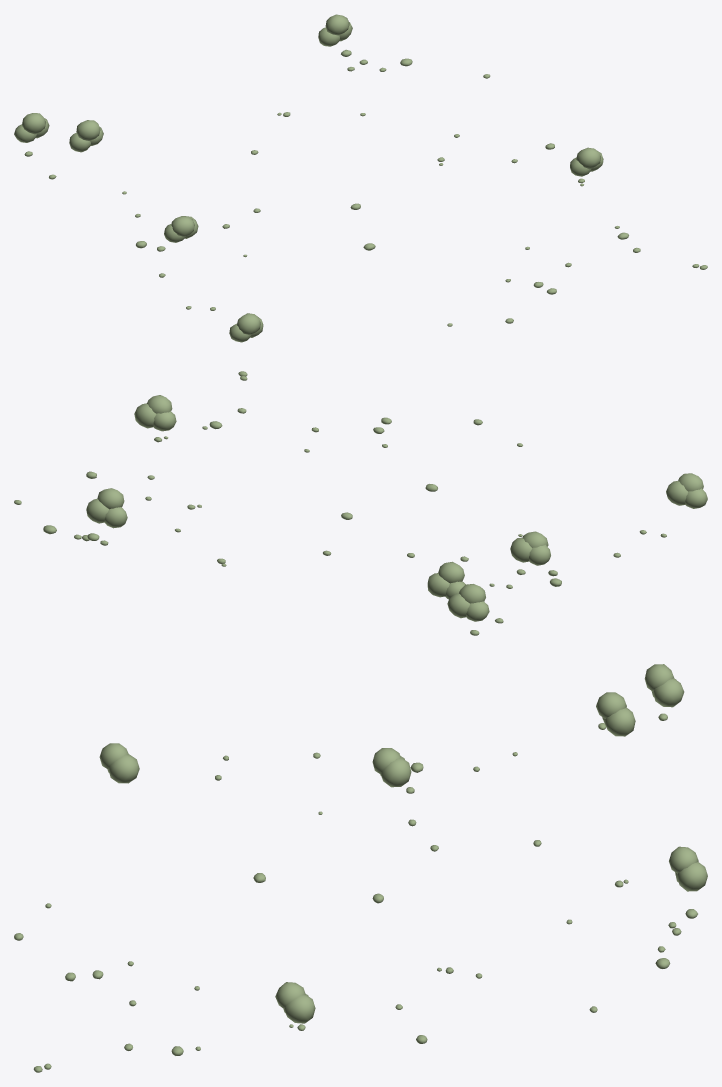
File: SM_LeavesLight.fbx
3 renders of one model, top to bottom at view 1: azimuth 30°, elevation 25°; view 2: azimuth 150°, elevation 25°; view 3: azimuth 270°, elevation 25°, orthographic. The views are drawn at different scales.
Parts seen in each view (by area): view 1: SM_LeavesLight; view 2: SM_LeavesLight; view 3: SM_LeavesLight.
Part boxes in pixels (x1,y1,x2,y2): SM_LeavesLight: (14, 14, 707, 342); SM_LeavesLight: (14, 371, 707, 635); SM_LeavesLight: (14, 664, 707, 1072).
Bounding box in the file's own units: 8765 × 8662 × 1992.
